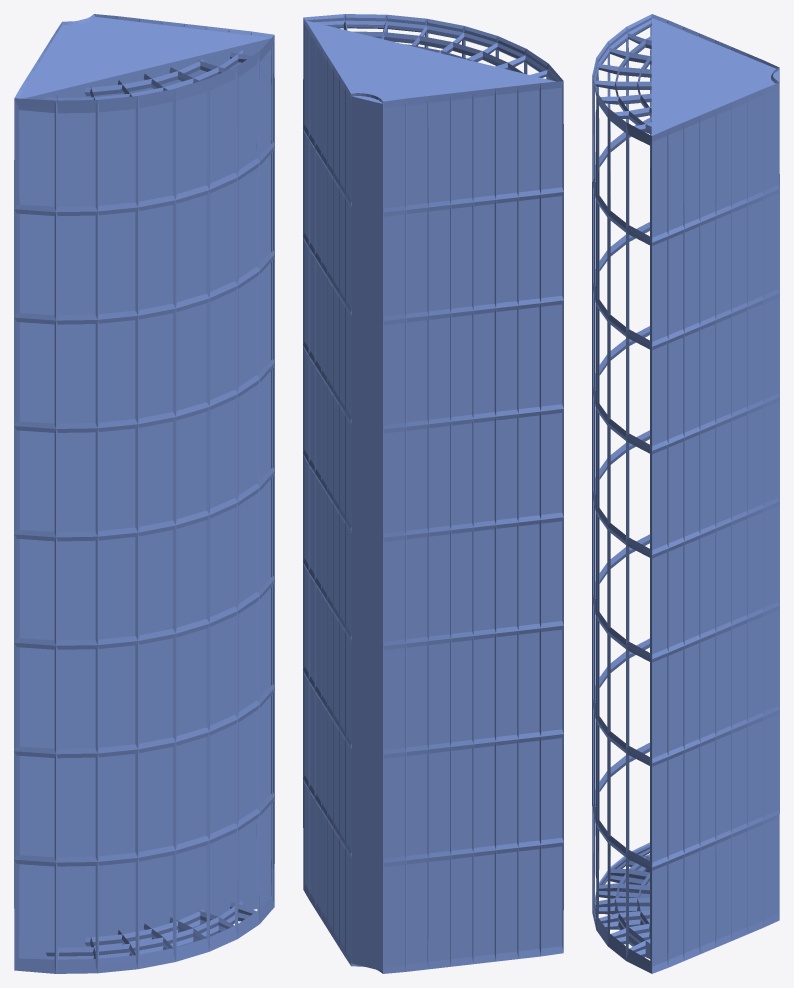
Rendered from PilvenPiirtäjäKupera-RemderVerisio.fbx.
3 renders of one model, left to right at view 1: azimuth 30°, elevation 25°; view 2: azimuth 150°, elevation 25°; view 3: azimuth 270°, elevation 25°, orthographic. The views are drawn at different scales.
Parts seen in each view (by area): view 1: Cube; view 2: Cube; view 3: Cube.
Boxes of the visible parts, x1,y1,x2,y2 form: Cube: (14,14,274,973); Cube: (303,14,563,973); Cube: (592,14,779,973).
Size of the model in its own units: 324 by 1037 by 210.
